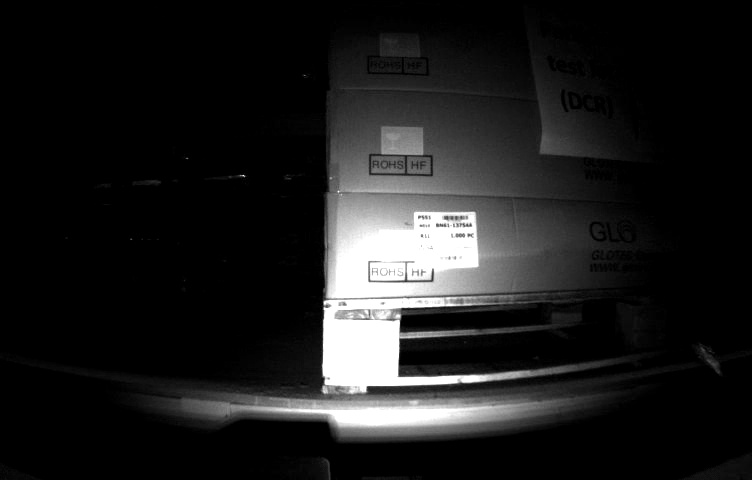True Barcode: (412, 207, 484, 274)
